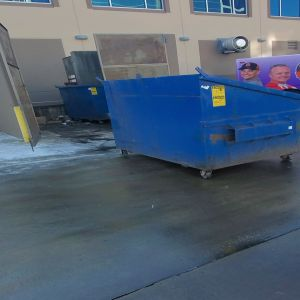Dumpster: (106, 88, 300, 178), (57, 85, 109, 126)
Person: (266, 65, 294, 90), (238, 62, 261, 82)
